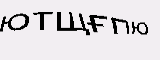П: (109, 15, 131, 35)
Т: (30, 7, 54, 30)
Щ: (56, 9, 91, 35)
Ю: (1, 10, 30, 33), (129, 18, 149, 37)
Ғ: (86, 11, 107, 34)
